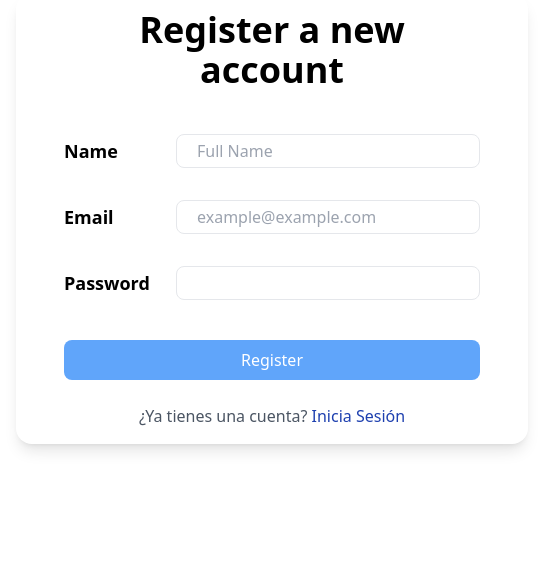
<Register> component › Clicking the register button and show all the fields validations
Click the button "Register" at [272, 360], box [64,340,480,380]
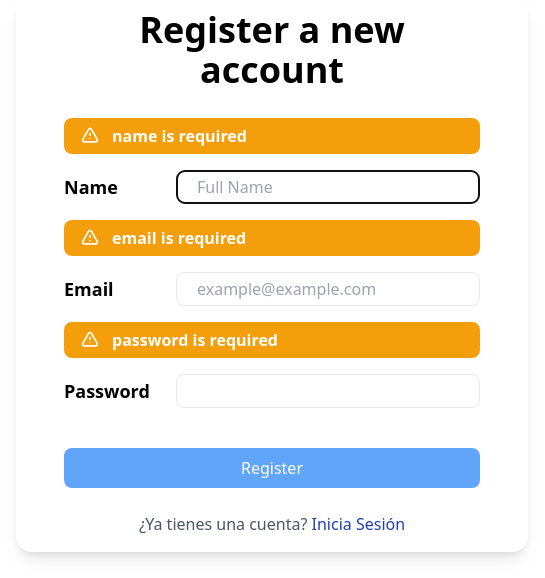
Expected: the text "name is required" is shown, [100,126,247,146]
Expected: the text "email is required" is shown, [100,228,246,248]
Expected: the text "password is required" is shown, [100,330,278,350]
